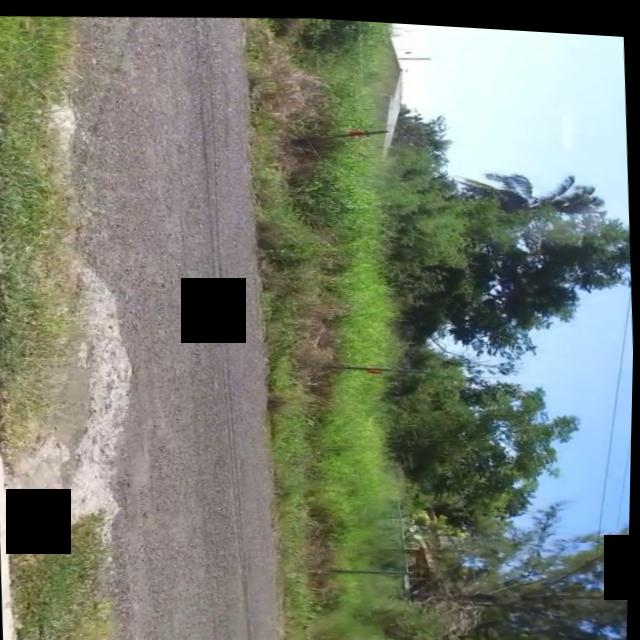Pole: (324, 351, 433, 379), (324, 118, 402, 143), (334, 559, 412, 577)
